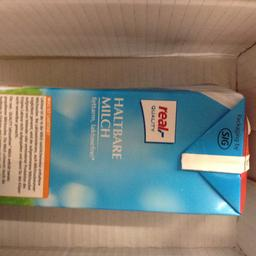milk: (0, 84, 255, 218)
